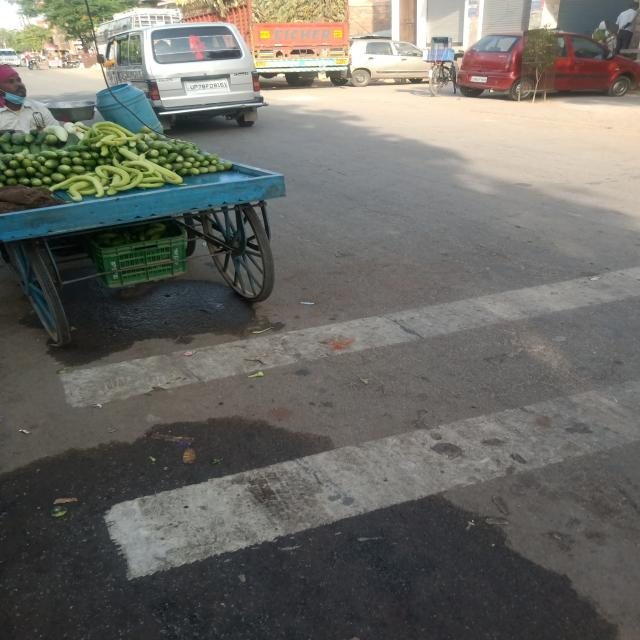Car: (116, 15, 268, 122)
